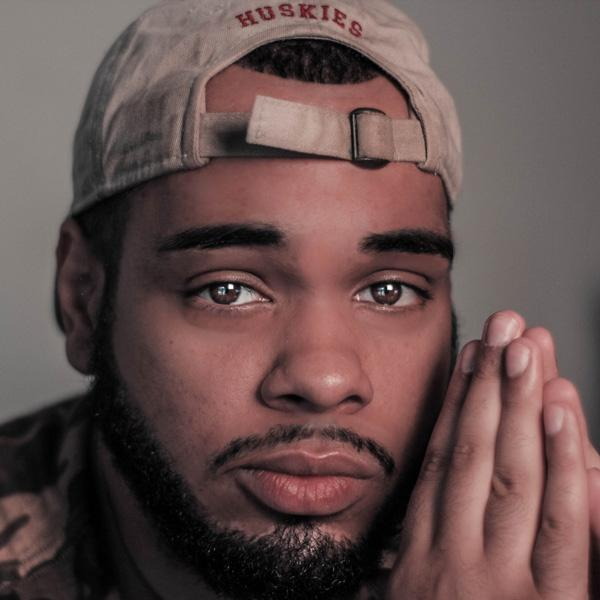Eyes: (174, 261, 281, 325), (342, 261, 438, 321)
